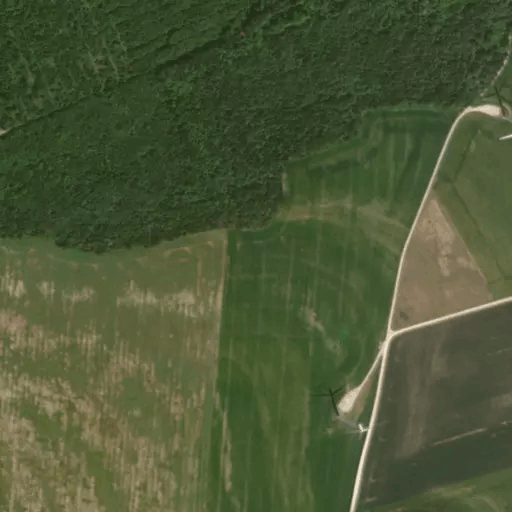wt: (308, 381, 377, 438), (476, 79, 512, 142)
